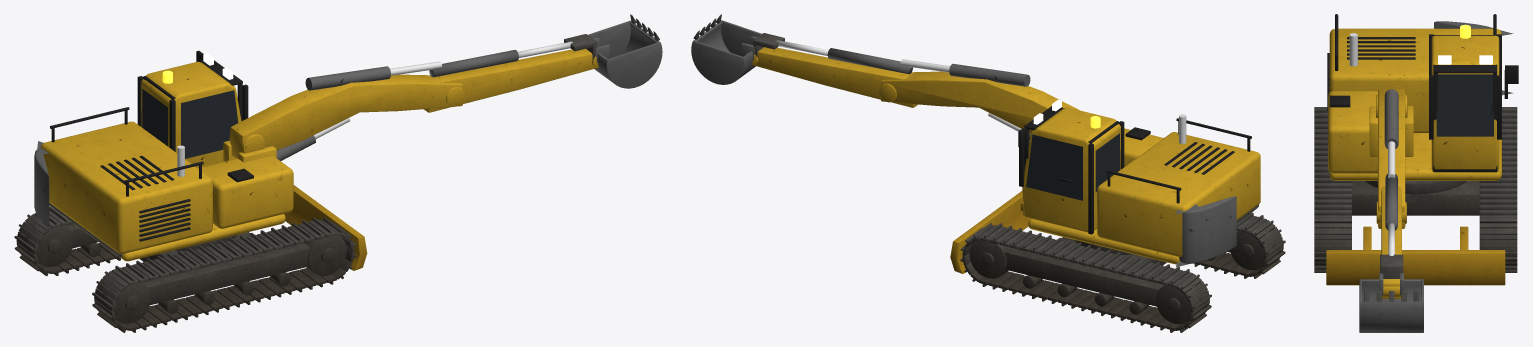
Rendered from excavator_used.glb.
The picture shows the model from 3 angles, left to right: view 1: azimuth 30°, elevation 25°; view 2: azimuth 150°, elevation 25°; view 3: azimuth 270°, elevation 25°; orthographic projection. The views are drawn at different scales.
Visible parts, largest first — view 1: HouseBody, Tracks, Undercarriage, BoomBody, StickBody, CabGlass, BucketBody, Cab, HouseDetails, Blade, BoomRams, Counterweight (+5 smaller); view 2: HouseBody, Tracks, Undercarriage, BoomBody, Cab, CabGlass, StickBody, Counterweight, BucketBody, HouseDetails, Blade, CabFrame (+4 smaller); view 3: HouseBody, Tracks, Blade, Cab, CabGlass, Undercarriage, BucketBody, BoomBody, HouseDetails, CabFrame, Interior, StickBody (+10 smaller).
Boxes of the visible parts, bbox=[...] form: HouseBody: bbox=[41, 121, 293, 261]; Tracks: bbox=[14, 206, 356, 332]; Undercarriage: bbox=[24, 223, 346, 323]; BoomBody: bbox=[229, 74, 464, 158]; StickBody: bbox=[424, 48, 598, 112]; CabGlass: bbox=[142, 89, 238, 158]; BucketBody: bbox=[588, 20, 662, 88]; Cab: bbox=[141, 61, 241, 167]; HouseDetails: bbox=[50, 107, 253, 241]; Blade: bbox=[284, 185, 367, 270]; BoomRams: bbox=[276, 66, 390, 160]; Counterweight: bbox=[34, 141, 121, 257]; HouseBody: bbox=[1028, 128, 1260, 264]; Tracks: bbox=[960, 212, 1285, 332]; Undercarriage: bbox=[969, 223, 1276, 324]; BoomBody: bbox=[879, 71, 1079, 132]; Cab: bbox=[1022, 107, 1120, 232]; CabGlass: bbox=[1026, 133, 1119, 200]; StickBody: bbox=[746, 47, 917, 107]; Counterweight: bbox=[1176, 196, 1258, 267]; BucketBody: bbox=[691, 20, 761, 84]; HouseDetails: bbox=[1105, 118, 1251, 203]; Blade: bbox=[950, 191, 1030, 273]; CabFrame: bbox=[1018, 121, 1124, 234]; HouseBody: bbox=[1328, 28, 1501, 180]; Tracks: bbox=[1314, 107, 1517, 272]; Blade: bbox=[1326, 226, 1505, 285]; Cab: bbox=[1431, 35, 1499, 172]; CabGlass: bbox=[1436, 74, 1493, 136]; Undercarriage: bbox=[1352, 113, 1502, 215]; BucketBody: bbox=[1359, 273, 1423, 332]; BoomBody: bbox=[1376, 89, 1407, 228]; HouseDetails: bbox=[1327, 14, 1496, 110]; CabFrame: bbox=[1429, 34, 1518, 139]; Interior: bbox=[1433, 35, 1497, 171]; StickBody: bbox=[1381, 186, 1401, 298].
Bounding box in the file's own units: 10.34 × 3.12 × 2.97.
10 materials, 3 textured.
